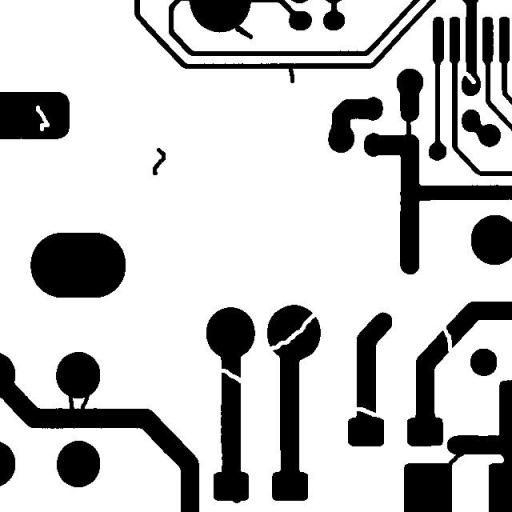copper: (145, 140, 173, 182)
mousebite: (455, 64, 483, 91)
open: (258, 303, 328, 359), (213, 360, 258, 398), (434, 318, 462, 364), (341, 399, 385, 424)
pin-hole: (28, 98, 57, 138)
short: (433, 442, 479, 476), (61, 385, 97, 423), (397, 102, 418, 150)
spur: (223, 14, 260, 46), (279, 57, 302, 90)
